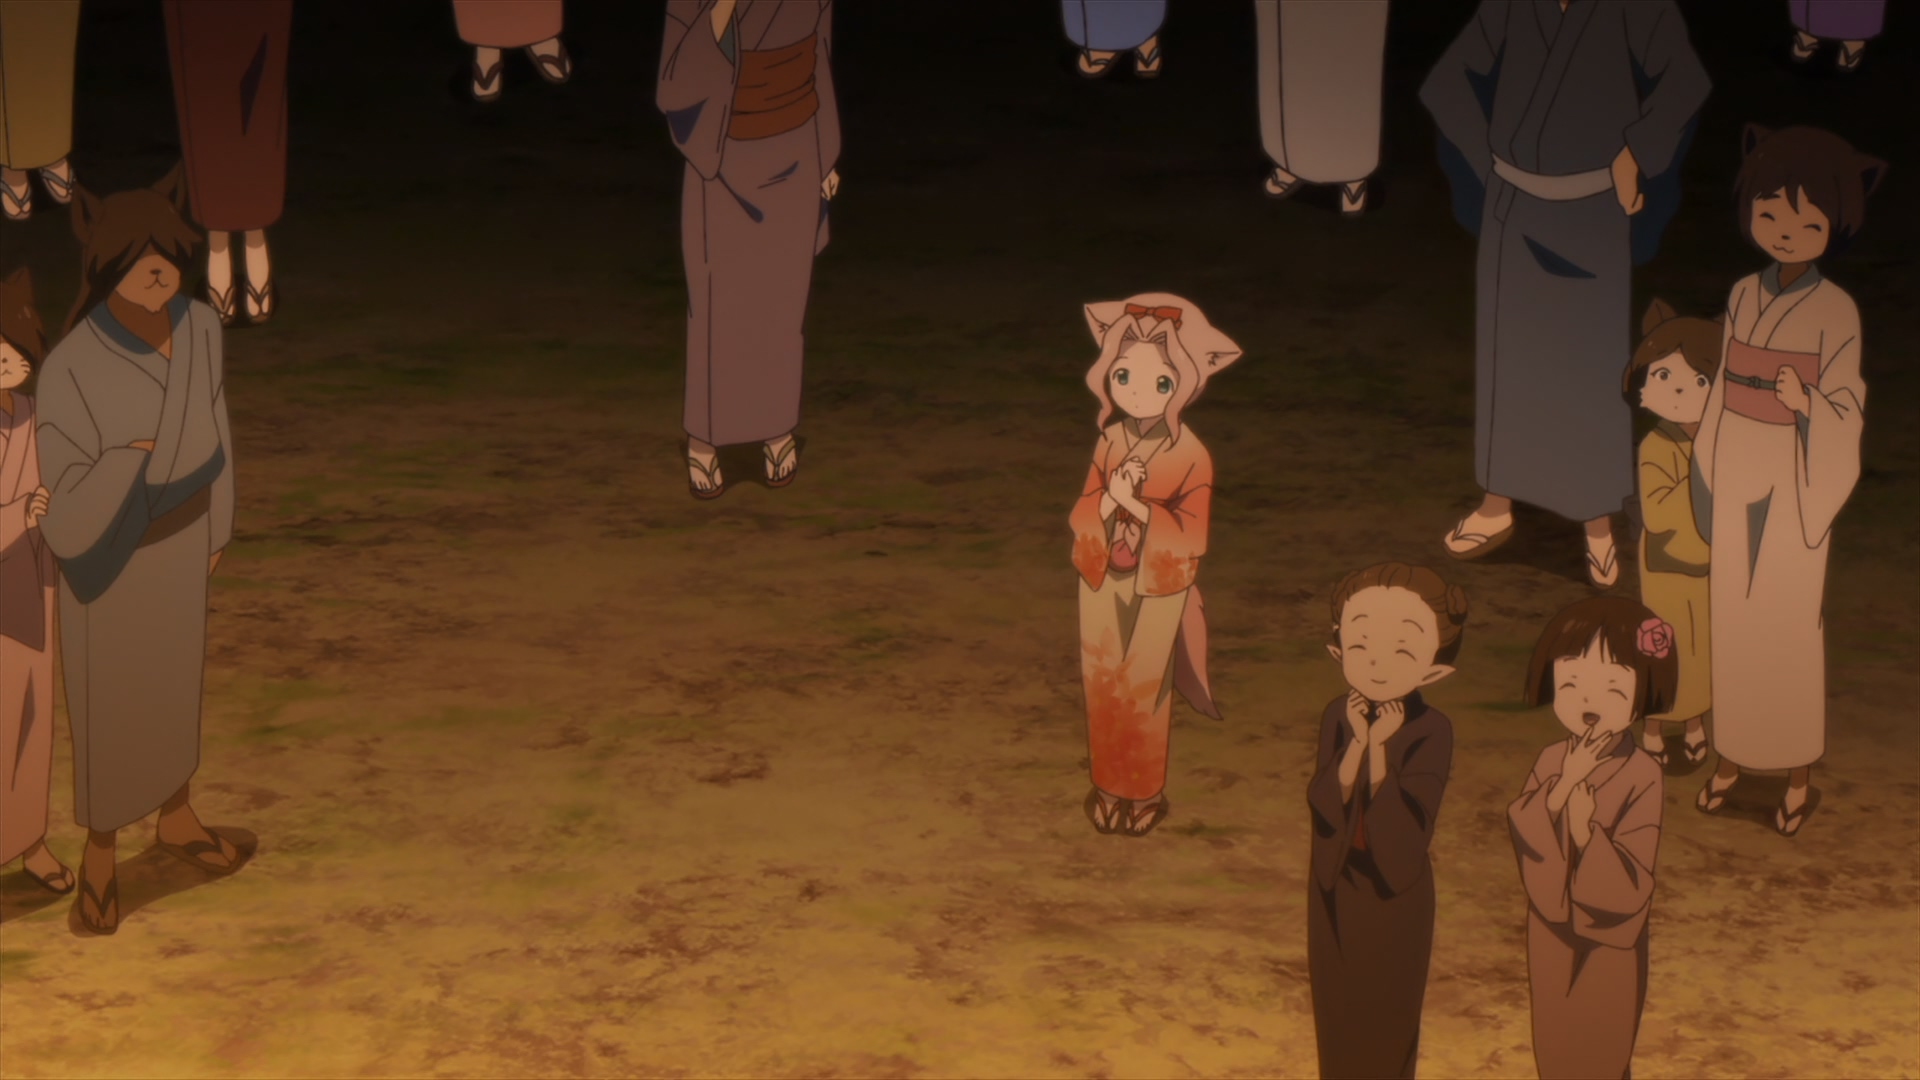其他: (1422, 1, 1709, 591), (37, 165, 237, 935), (1688, 124, 1890, 833), (655, 1, 844, 501), (1308, 560, 1473, 1080), (1505, 593, 1677, 1080), (1619, 295, 1725, 767), (1, 262, 74, 899), (169, 1, 289, 324), (1254, 1, 1389, 222), (1, 1, 76, 224), (455, 1, 578, 107), (1064, 1, 1168, 76), (1783, 1, 1888, 70)
莲: (1065, 293, 1245, 836)
